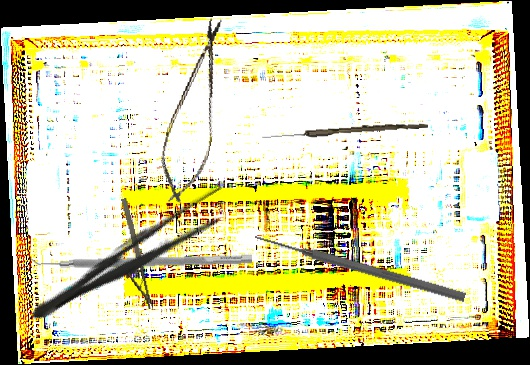Dressing Forceps: (22, 181, 237, 333)
Micro Scissor: (151, 11, 238, 211)
Needle Holder: (102, 197, 154, 315)
Pusher: (253, 230, 467, 304)
Spatula Surgical: (29, 245, 253, 272)
Surgical Spoon: (261, 119, 429, 143)
